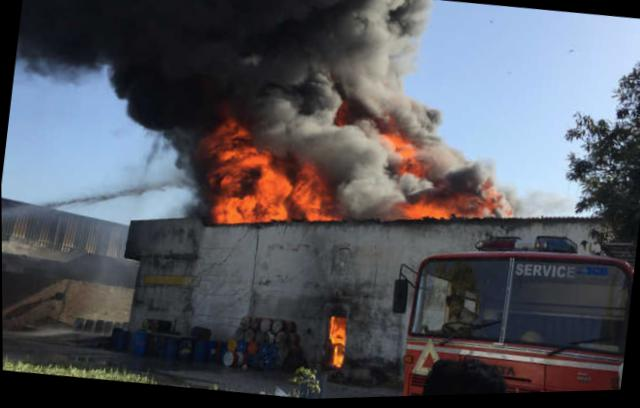fire: (194, 116, 259, 226), (249, 160, 287, 225), (291, 164, 320, 222), (384, 133, 418, 160), (403, 202, 449, 220)
smoke: (15, 0, 429, 109), (107, 65, 337, 131), (124, 110, 201, 212), (420, 142, 517, 207), (342, 94, 446, 132), (258, 121, 360, 158), (18, 60, 94, 91), (333, 179, 386, 221), (510, 187, 564, 221), (320, 157, 384, 184)
